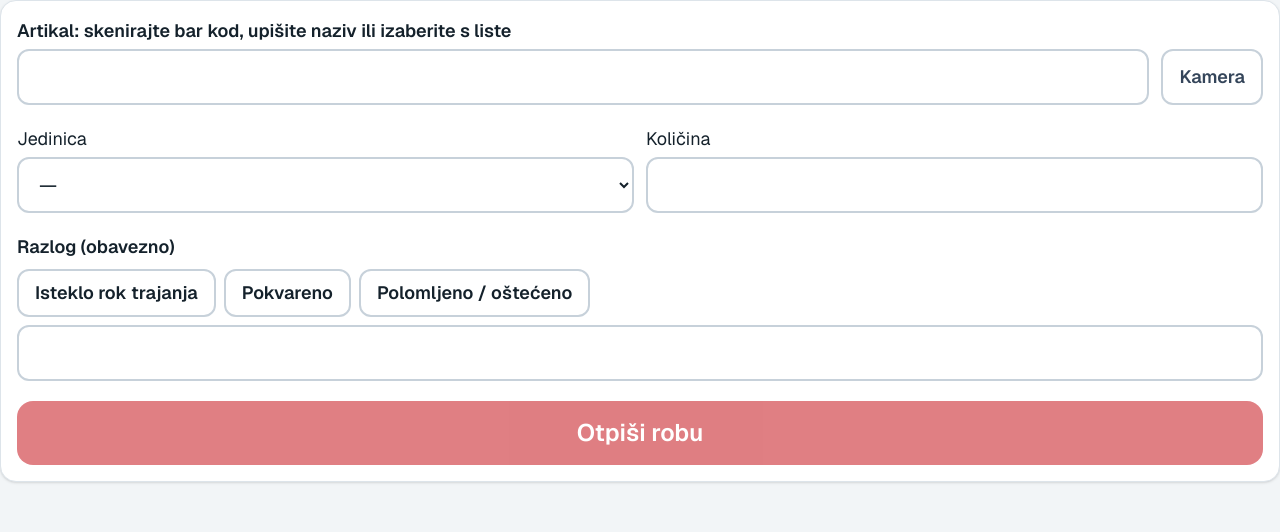
Test: otpis magacina: forma › skeniranje bar koda popunjava artikal i prikazuje stanje magacina
The width and height of the screenshot is (1280, 532).
Click the field labelled "Artikal: skenirajte": (583,77) top-left (17, 49), bottom-right (1149, 105)
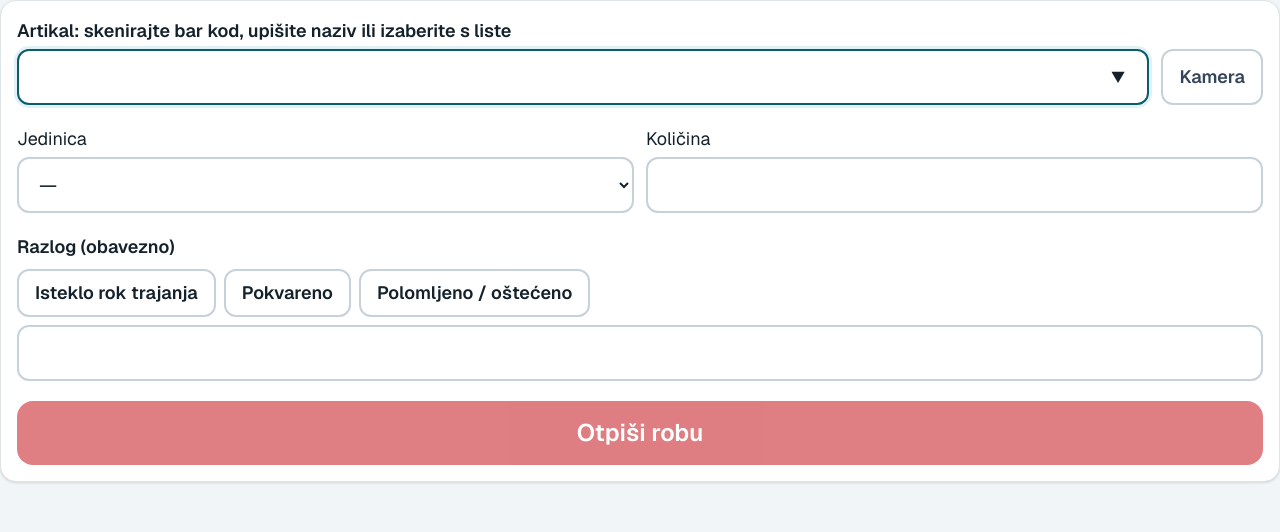
Type keys "3850001{Enter}"
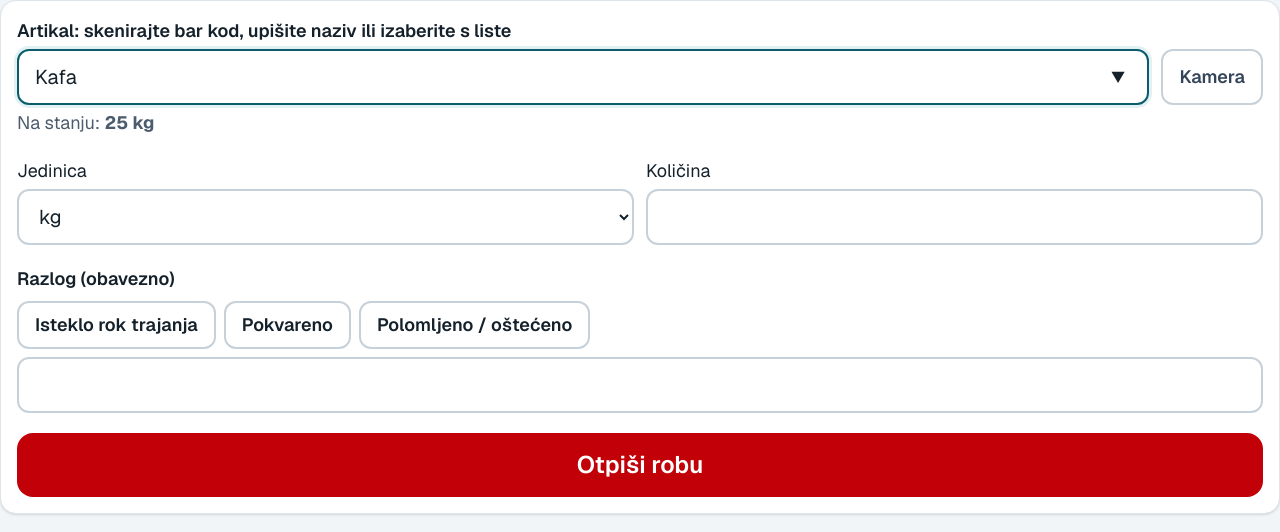
Expected: the field labelled "Artikal: skenirajte" holds "Kafa", top-left (17, 49), bottom-right (1149, 105)
Expected: the text "25 kg" is shown, top-left (105, 111), bottom-right (154, 134)
